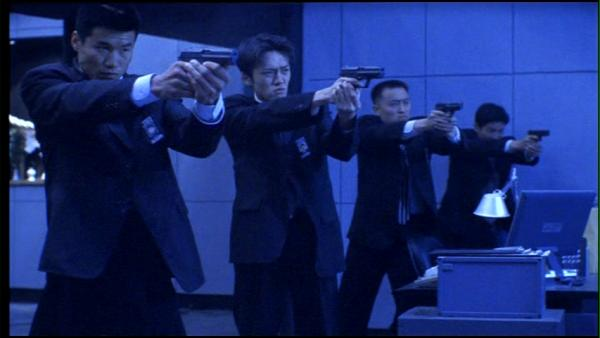Gun: (177, 46, 240, 66), (340, 66, 386, 86), (433, 104, 464, 114), (528, 129, 550, 138)
